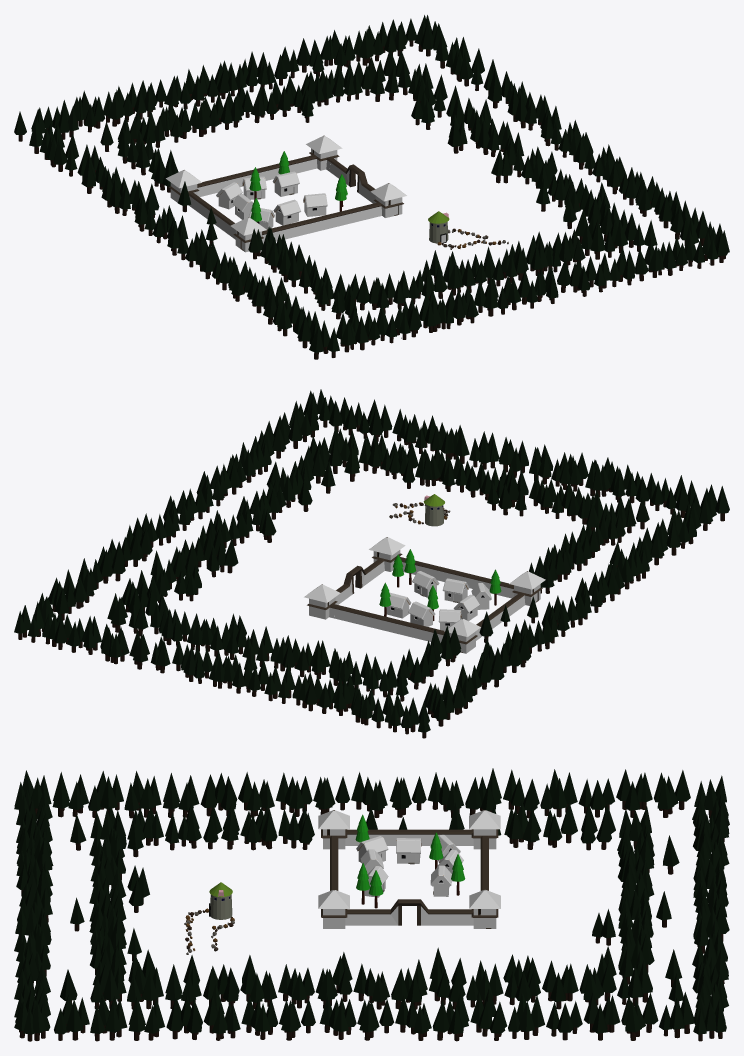
File: town_rest.obj
The picture shows the model from 3 angles, top to bottom: view 1: azimuth 30°, elevation 25°; view 2: azimuth 150°, elevation 25°; view 3: azimuth 270°, elevation 25°; orthographic projection. The views are drawn at different scales.
Visible parts, largest first — view 1: CornerFort.001, CornerFort.002, CornerFort.004, CornerFort.003; view 2: CornerFort.002, CornerFort.004, CornerFort.001, CornerFort.003; view 3: CornerFort.002, CornerFort.001, CornerFort.003, CornerFort.004, WindmillBody, Cube.038, Cube.050, Cube.033, Cube.035, Cube.053, Cube.052, Cube.021 (+1 smaller).
Boxes of the visible parts, left/top/right/bottom form: CornerFort.001: left=370, top=183, right=406, bottom=217; CornerFort.002: left=306, top=135, right=342, bottom=170; CornerFort.004: left=230, top=217, right=266, bottom=252; CornerFort.003: left=166, top=170, right=201, bottom=202; CornerFort.002: left=304, top=584, right=340, bottom=619; CornerFort.004: left=509, top=571, right=545, bottom=605; CornerFort.001: left=369, top=537, right=405, bottom=571; CornerFort.003: left=444, top=618, right=480, bottom=653; CornerFort.002: left=469, top=889, right=500, bottom=928; CornerFort.001: left=318, top=889, right=349, bottom=928; CornerFort.003: left=469, top=810, right=500, bottom=849; CornerFort.004: left=318, top=810, right=349, bottom=849; WindmillBody: left=209, top=882, right=232, bottom=919; Cube.038: left=390, top=899, right=428, bottom=925; Cube.050: left=396, top=838, right=421, bottom=864; Cube.033: left=353, top=909, right=390, bottom=925; Cube.035: left=428, top=909, right=465, bottom=925; Cube.053: left=430, top=865, right=451, bottom=896; Cube.052: left=356, top=836, right=388, bottom=862; Cube.021: left=390, top=829, right=428, bottom=845.
Size of the model in its own units: 150 by 17.56 by 190.
